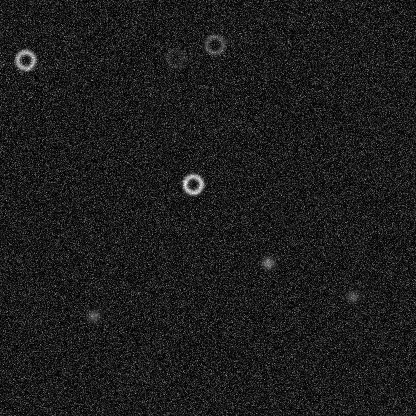Ring: (180, 172, 204, 196), (13, 47, 37, 71), (163, 46, 187, 70), (202, 32, 226, 56)
Spot: (344, 288, 360, 304), (85, 307, 101, 323), (259, 254, 275, 270)
